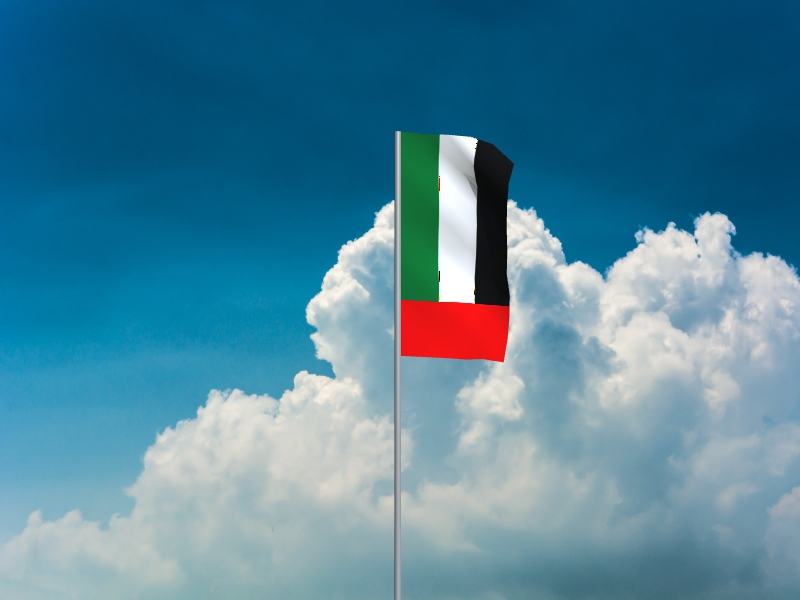ae: (402, 132, 517, 364)
